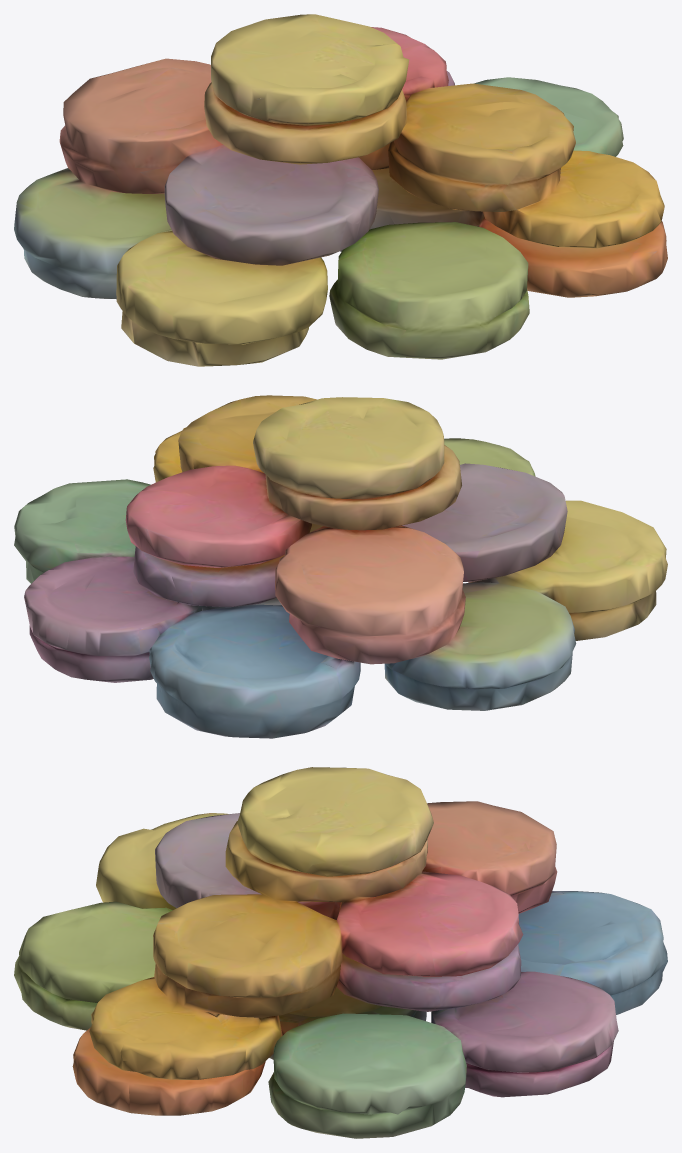
Rendered from coins.glb.
3 views of the same model, one above another, from view 1: azimuth 30°, elevation 25°; view 2: azimuth 150°, elevation 25°; view 3: azimuth 270°, elevation 25° (orthographic). The views are drawn at different scales.
Parts seen in each view (by area): view 1: tripo_node_40ca04f6-5899-43a3-bd92-287aa1546d01; view 2: tripo_node_40ca04f6-5899-43a3-bd92-287aa1546d01; view 3: tripo_node_40ca04f6-5899-43a3-bd92-287aa1546d01.
Part boxes in pixels (bbox=[...]): tripo_node_40ca04f6-5899-43a3-bd92-287aa1546d01: bbox=[14, 14, 667, 366]; tripo_node_40ca04f6-5899-43a3-bd92-287aa1546d01: bbox=[14, 395, 667, 738]; tripo_node_40ca04f6-5899-43a3-bd92-287aa1546d01: bbox=[14, 767, 667, 1138].
Size of the model in its own units: 0.9847 by 0.3167 by 1.
1 material, 1 textured.
